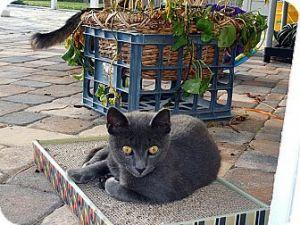rblue: (102, 103, 174, 182)
